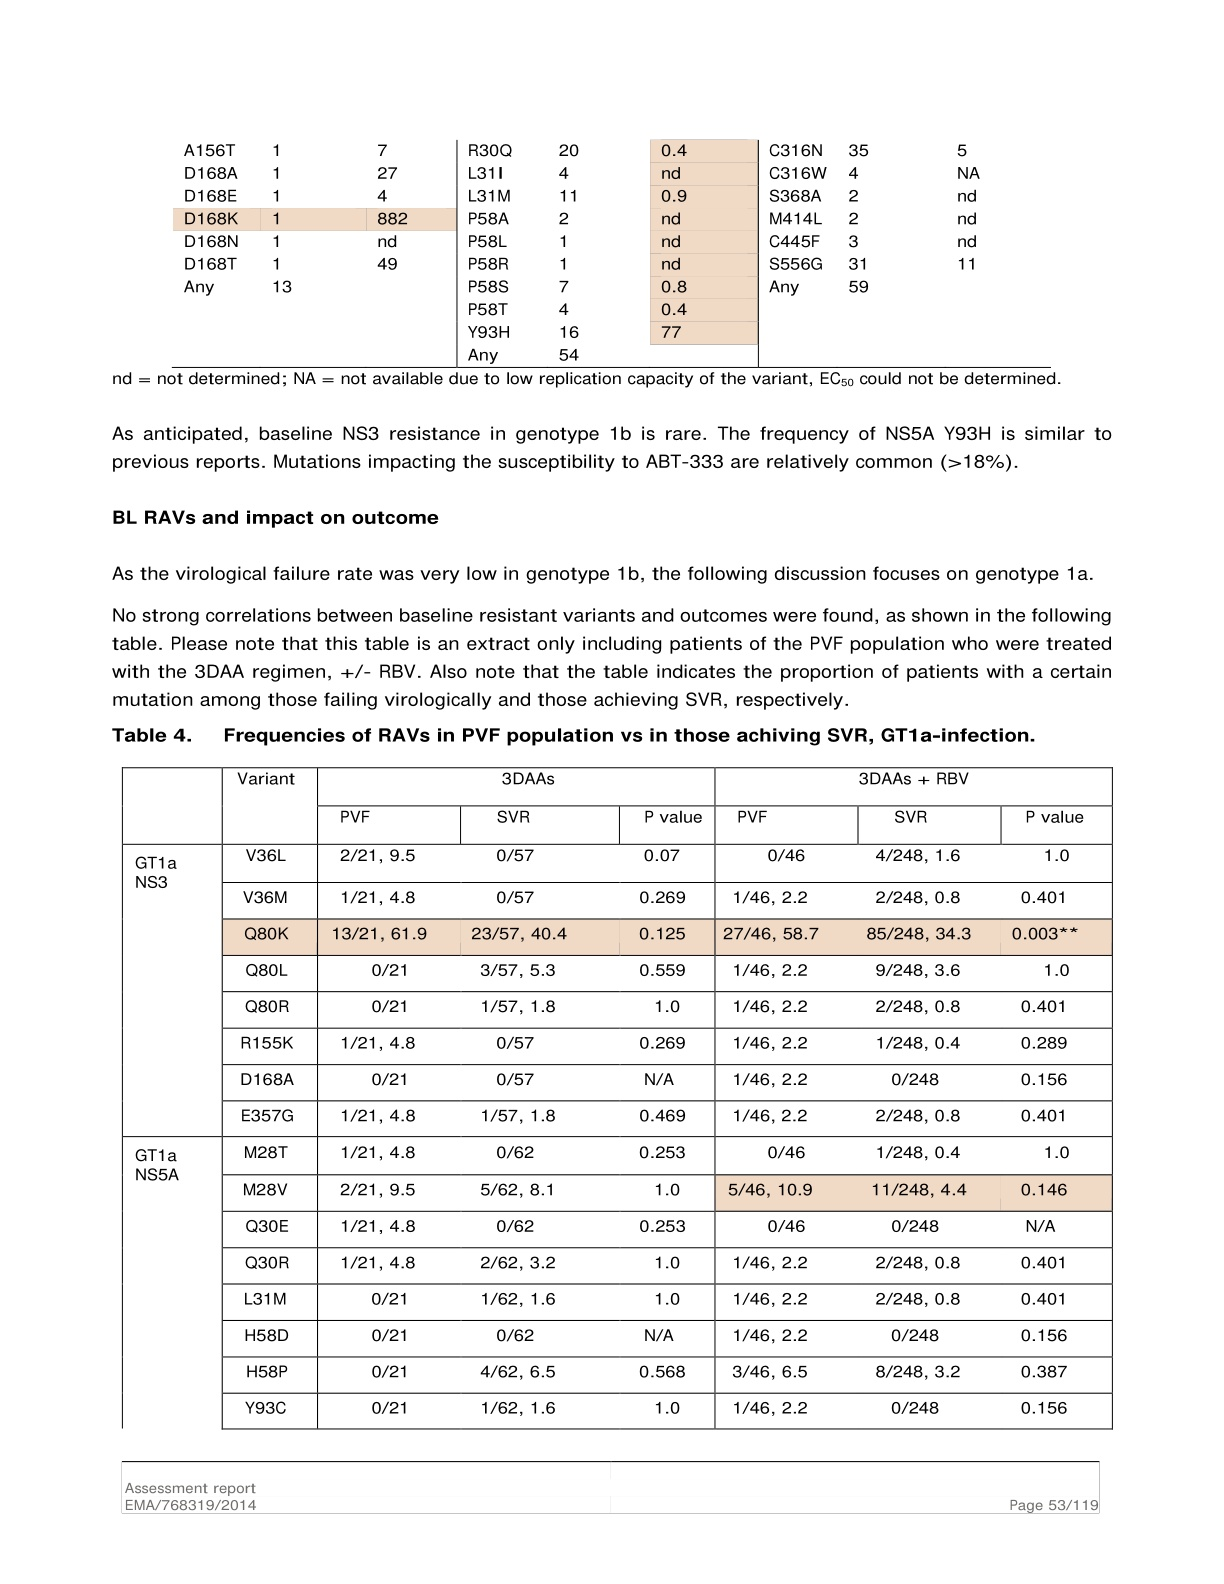merged_cells: (121, 765, 1113, 1463)
partial_lined: (172, 135, 1052, 370)
